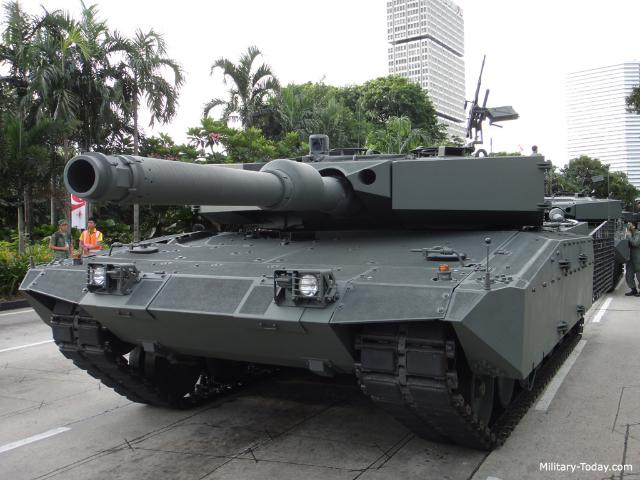other: (626, 218, 640, 296)
tank: (20, 141, 590, 427)
